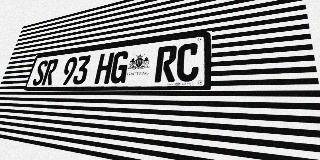3: (72, 55, 91, 85)
9: (60, 56, 79, 85)
C: (175, 42, 200, 82)
G: (109, 50, 130, 84)
H: (94, 52, 115, 84)
R: (154, 45, 178, 82), (41, 59, 59, 85)
S: (31, 60, 49, 86)
